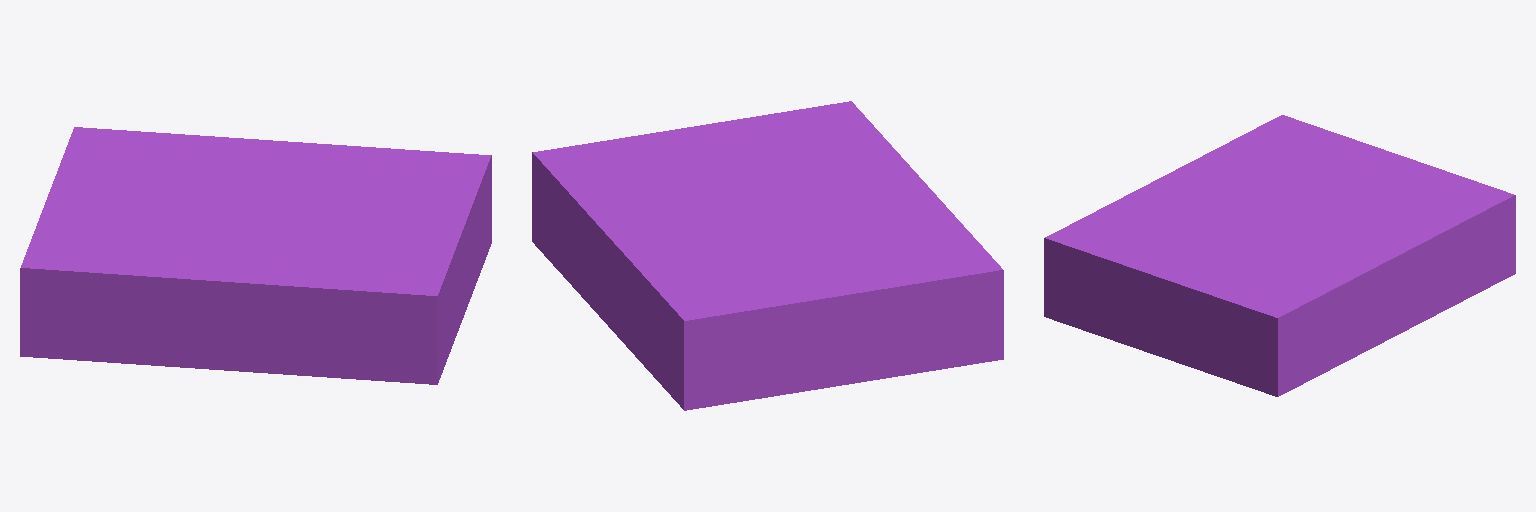
The robot description file, URDF, robot "Interference":
<?xml version="1.0"?>
<robot name="Interference">
  <link name="baseLink">
    <inertial>
      <origin xyz="0.0 0.0 0.0" rpy="0.0 0.0 0.0"/>
      <inertia ixx="0.0" ixy="0.0" ixz="0.0" iyy="0.0" iyz="0.0" izz="0.0"/>
      <mass value="0"/>
    </inertial>
    <visual>
      <origin xyz="0.0 0.0 0.0" rpy="0.0 0.0 0.8872060820413443"/>
      <geometry>
        <box size="0.03447867927906454 0.04314470731192422 0.01"/>
      </geometry>
      <material name="color">
        <color rgba="0.7437100656877774 0.3892267874721561 0.8789972428437428 1.0"/>
      </material>
    </visual>
  </link>
</robot>

--- What the picture shows (computed from the rendered views, not written in the file) ---
Views: 3 orthographic renders of the robot side by side, from view 1: azimuth 30°, elevation 25°; view 2: azimuth 150°, elevation 25°; view 3: azimuth 270°, elevation 25°.
Model Interference with 1 links and 0 joints (none), rooted at baseLink, posed all joints at 0.
Visible links, largest first — view 1: baseLink; view 2: baseLink; view 3: baseLink.
Link boxes in pixels (x1=…): baseLink: x1=20, y1=127, x2=491, y2=384; baseLink: x1=532, y1=101, x2=1003, y2=410; baseLink: x1=1044, y1=115, x2=1515, y2=396.
Bounding box of the posed robot: 0.0552 × 0.054 × 0.01 m (x, y, z).
Geometry: primitives only (box / cylinder / sphere), no mesh files.